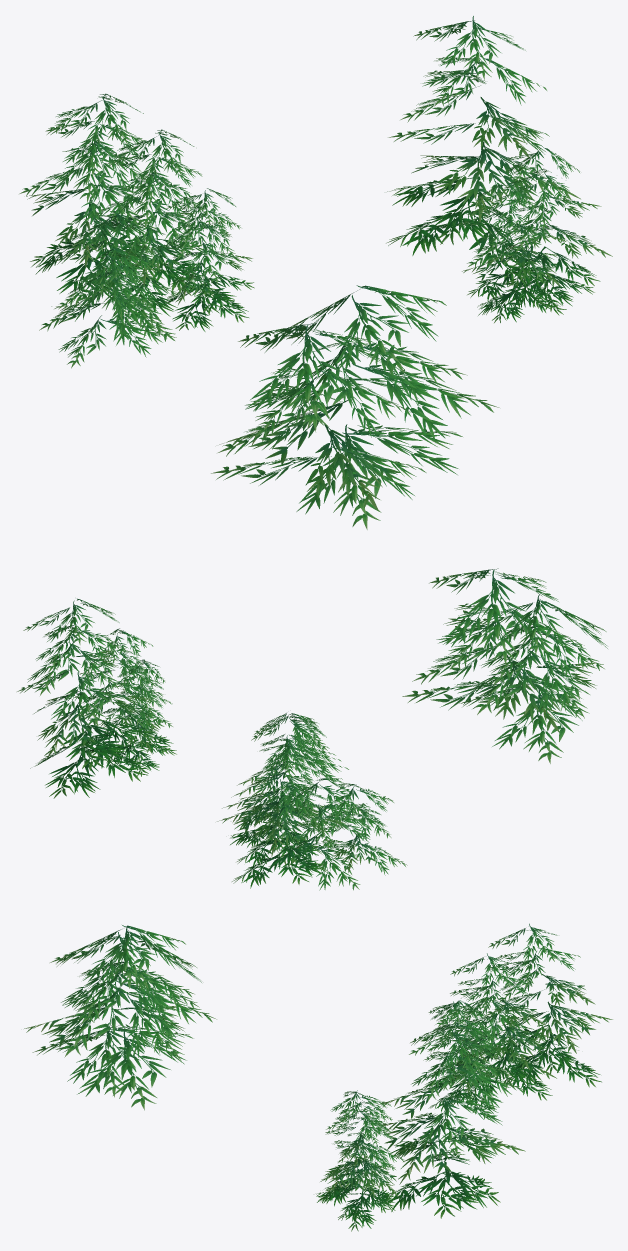
Rendered from Area_12_38.fbx.
3 views of the same model, one above another, from view 1: azimuth 30°, elevation 25°; view 2: azimuth 150°, elevation 25°; view 3: azimuth 270°, elevation 25° (orthographic). The views are drawn at different scales.
Parts seen in each view (by area): view 1: Area_12_38; view 2: Area_12_38; view 3: Area_12_38.
Part boxes in pixels (x1,y1,x2,y2): Area_12_38: (19,16,612,529); Area_12_38: (17,568,607,890); Area_12_38: (24,923,612,1231).
Size of the model in its own units: 2728 by 1196 by 3316.
